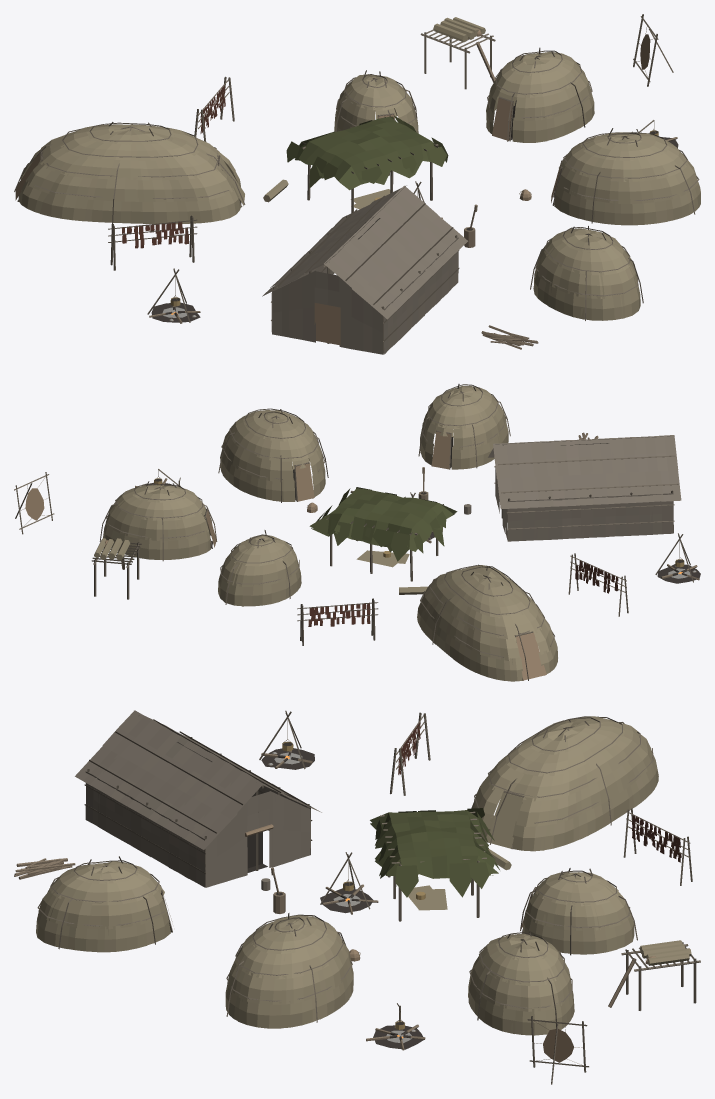
File: potawatomi_camp_1812_south_prairie__camp_1812.glb
3 renders of one model, top to bottom at view 1: azimuth 30°, elevation 25°; view 2: azimuth 150°, elevation 25°; view 3: azimuth 270°, elevation 25°, orthographic. The views are drawn at different scales.
Visible parts, largest first — view 1: potawatomi_camp_1812_south_prairie__camp_1812; view 2: potawatomi_camp_1812_south_prairie__camp_1812; view 3: potawatomi_camp_1812_south_prairie__camp_1812.
Part boxes in pixels (bbox=[...]): potawatomi_camp_1812_south_prairie__camp_1812: bbox=[14, 14, 700, 354]; potawatomi_camp_1812_south_prairie__camp_1812: bbox=[14, 384, 700, 681]; potawatomi_camp_1812_south_prairie__camp_1812: bbox=[14, 710, 700, 1084].
Size of the model in its own units: 27.58 by 3.45 by 23.66.
